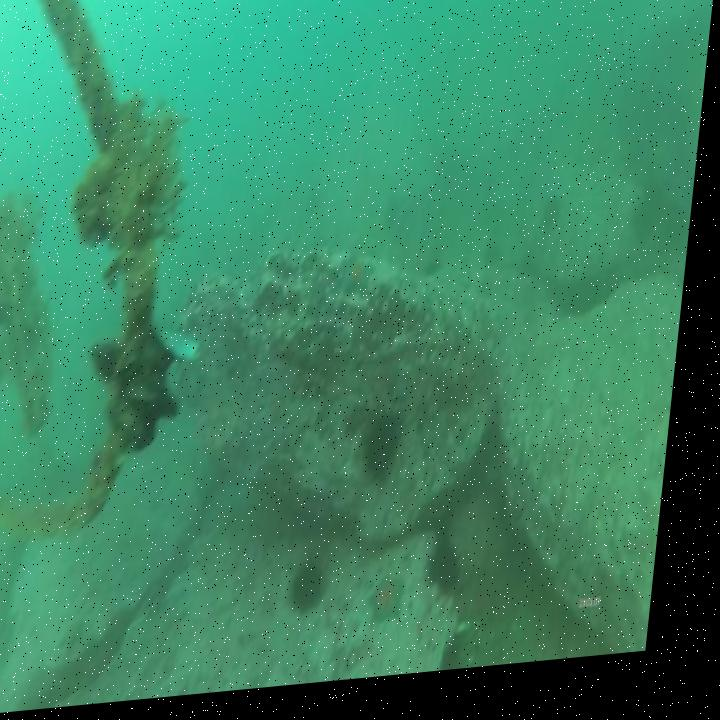echinus: (373, 428, 413, 488), (306, 570, 338, 620), (440, 554, 474, 597), (637, 211, 664, 256), (489, 431, 515, 475), (547, 206, 569, 243)
starfish: (380, 585, 420, 636)
